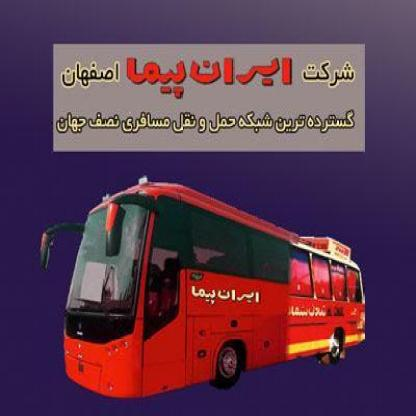Bus: (32, 172, 366, 404)
